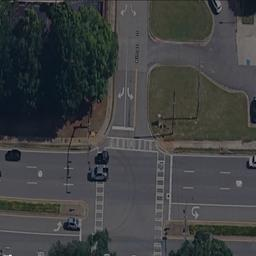Car: (90, 164, 109, 181), (63, 216, 81, 230), (92, 151, 109, 164), (4, 149, 22, 160), (245, 156, 256, 168)
Crosswalk: (152, 150, 164, 254), (93, 181, 103, 252), (104, 140, 156, 148)
Double Solid Yellow Line: (132, 69, 137, 128)
Left Turn Arrow: (128, 4, 139, 19), (126, 87, 136, 101), (52, 222, 64, 232)
Right Turn Arrow: (119, 2, 129, 16), (117, 89, 125, 99)
Solid White Line: (172, 201, 256, 208), (1, 231, 80, 237), (126, 64, 127, 127)
Stopline: (167, 156, 173, 222), (111, 123, 137, 131), (80, 221, 81, 241)
U Turn Arrow: (191, 204, 201, 220)
White Dashed Line: (22, 162, 76, 172), (176, 184, 239, 191), (18, 180, 77, 186), (179, 169, 233, 175)
